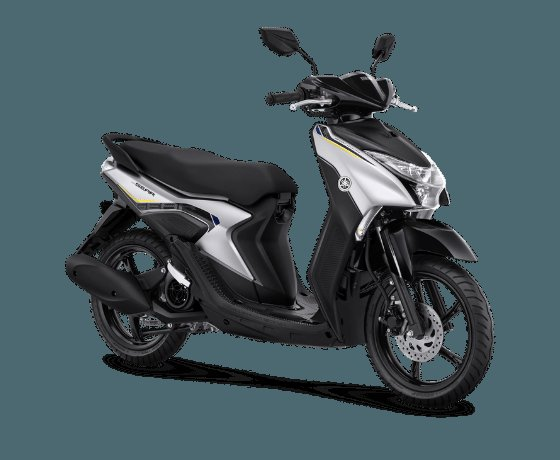motor: (64, 35, 496, 415)
